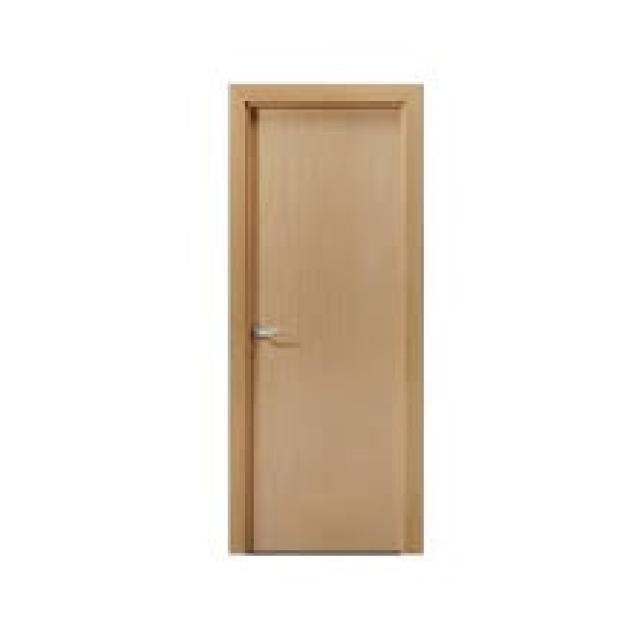door: (229, 82, 425, 554)
